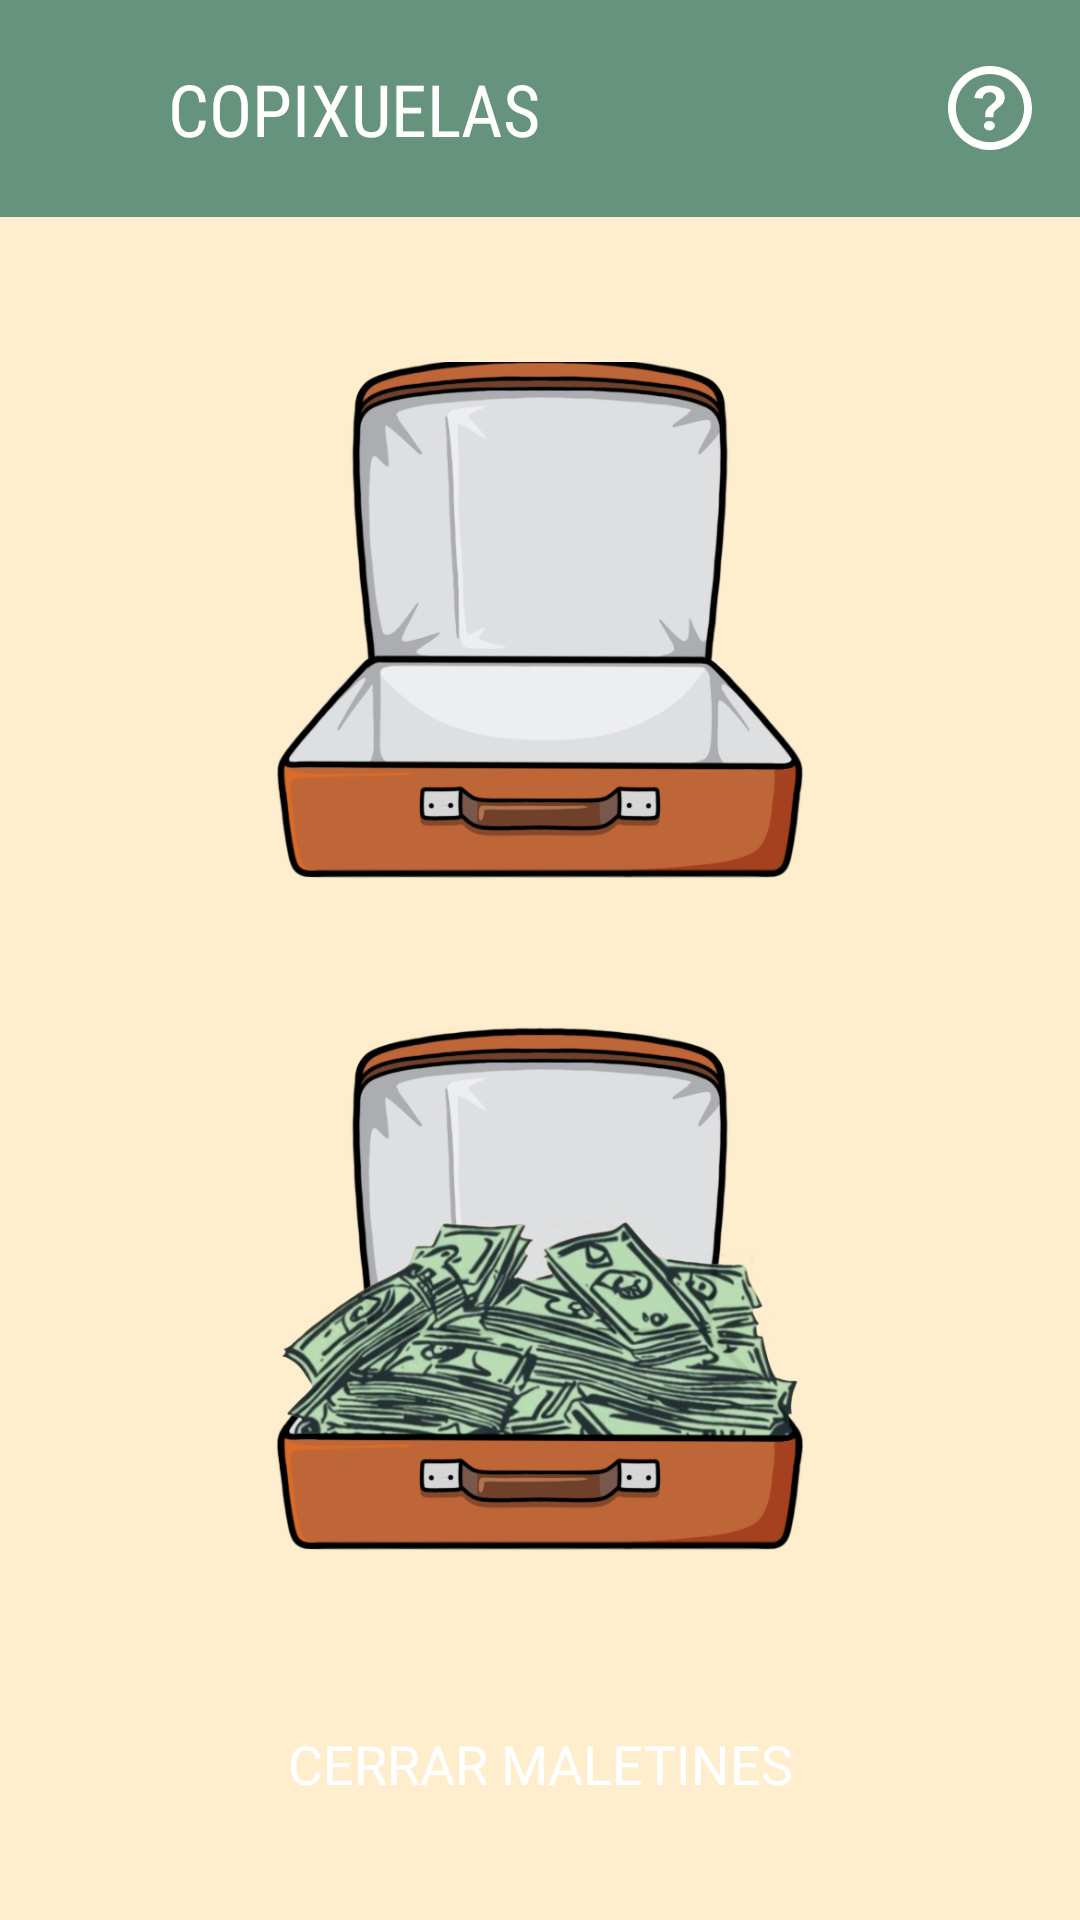

Where to tap for icons on this 1080 x 1920 app screen, as point (x, y):
question: point (990, 108)
